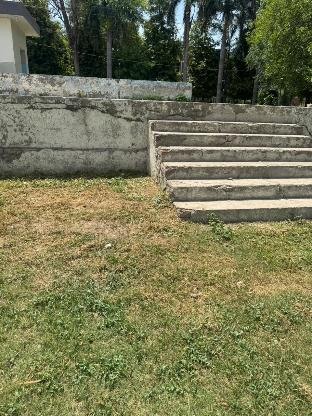stair: (145, 98, 312, 230)
